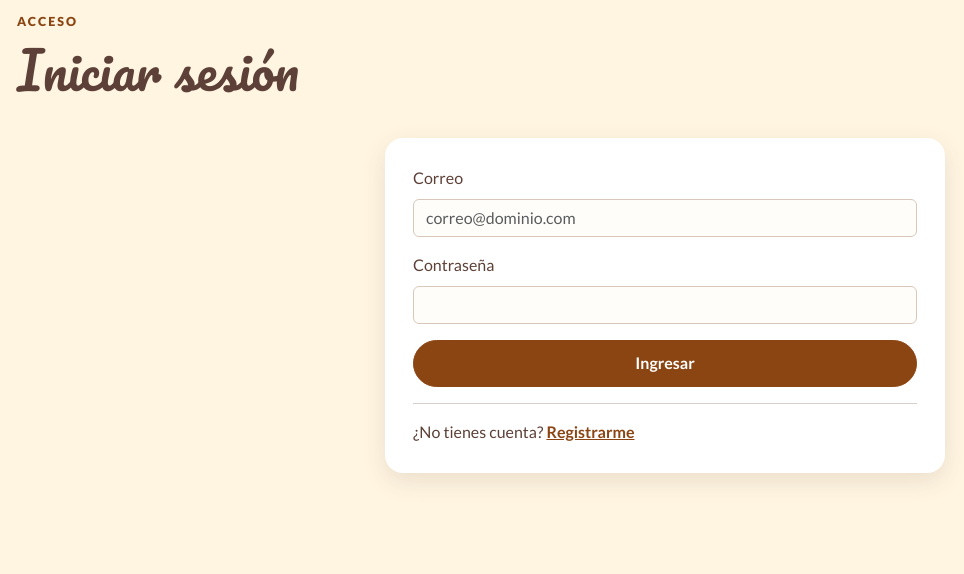
Test: Inicio de sesión › rechaza credenciales que no coinciden con el usuario registrado
Type "maria@duoc.cl" into the field labelled "Correo" at (665, 218), box [413,199,917,237]
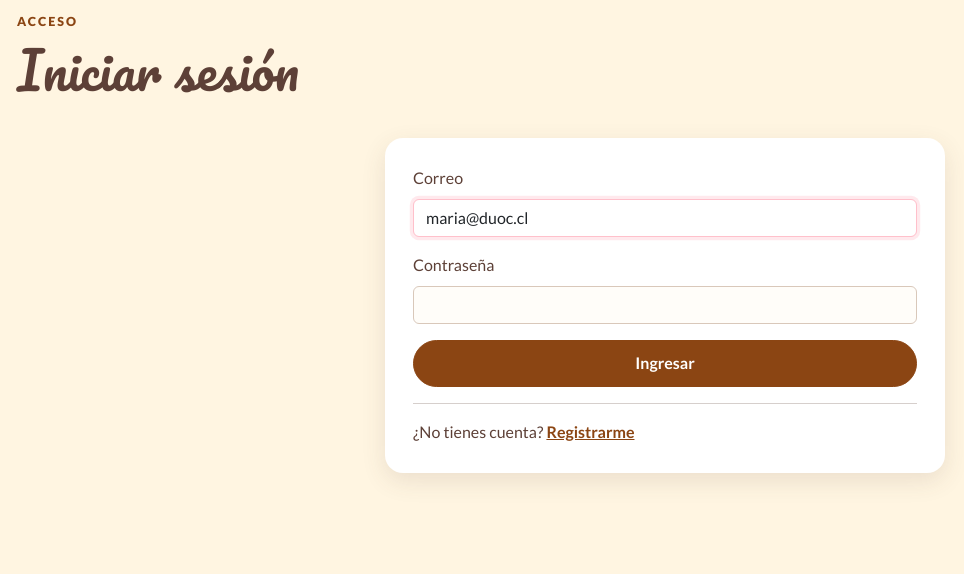
Type "9999" into the password field labelled "Contraseña" at (665, 305), box [413,286,917,324]
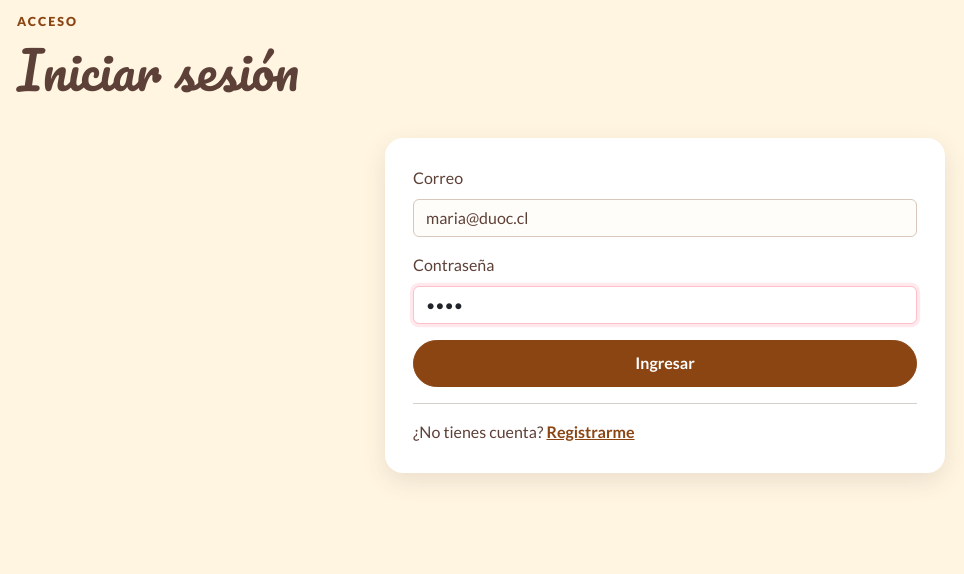
Click the button "Ingresar" at (665, 363), box [413,340,917,387]
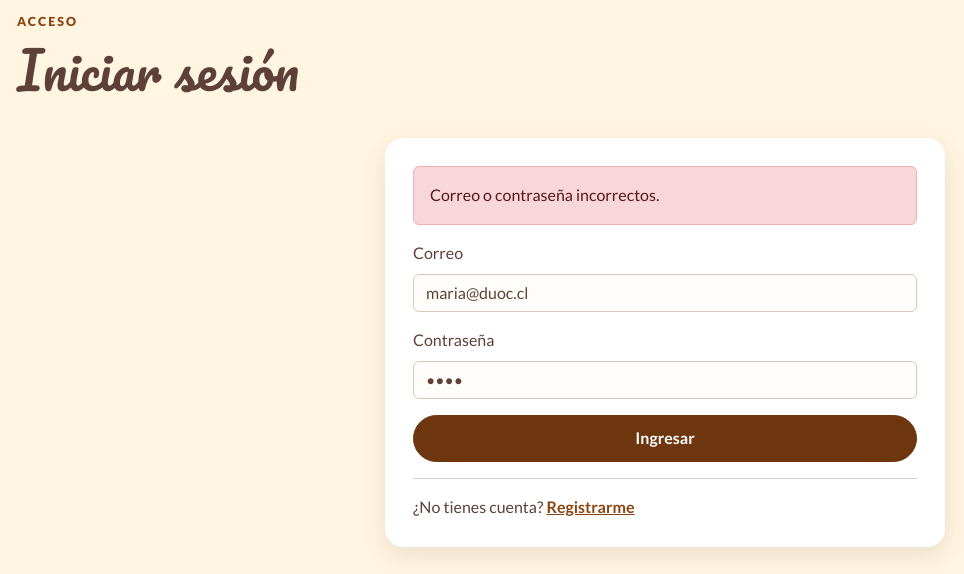
Expected: the text "Correo o contraseña incorrectos." is shown, [413,166,917,225]
